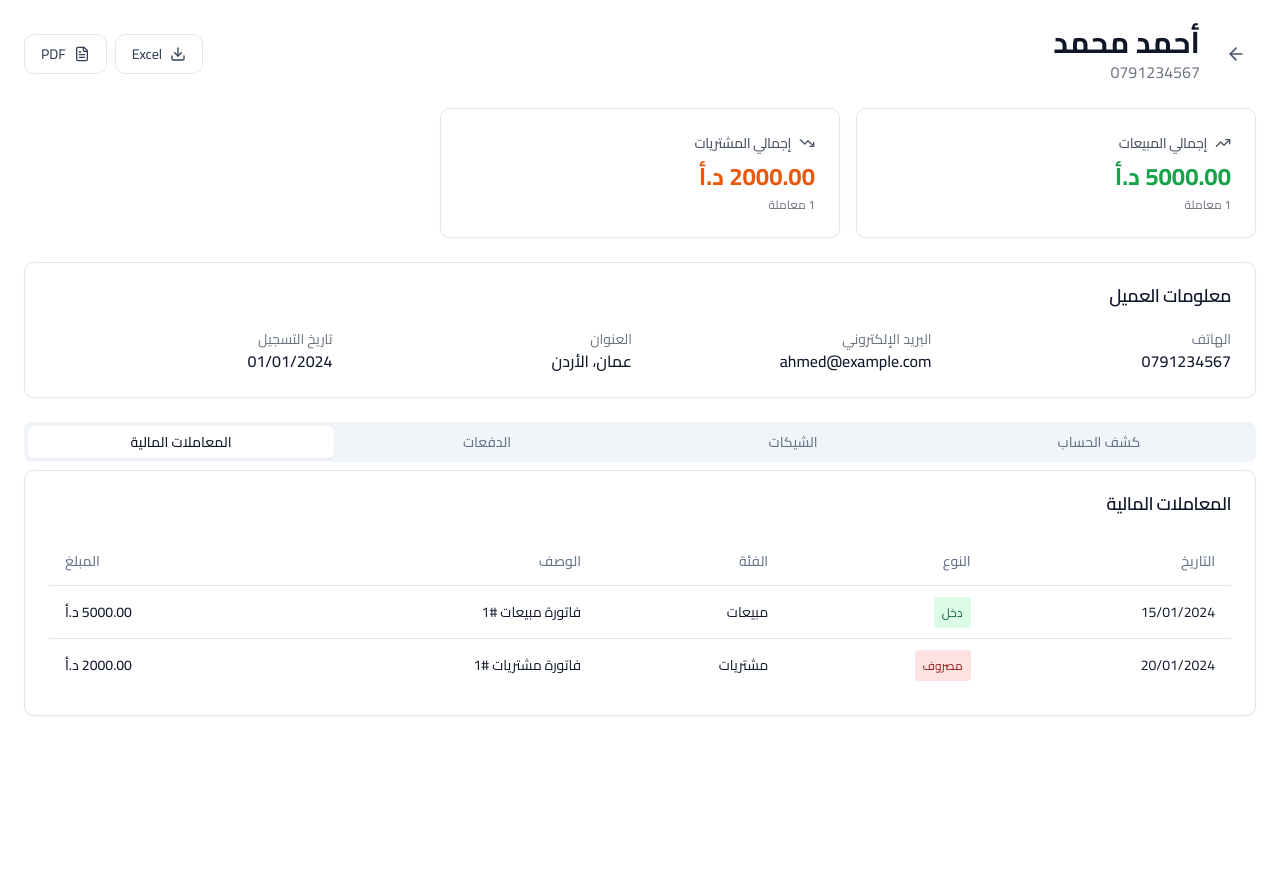
Test: ClientDetailPage › Statement Tab › should display statement header with client name
Click the tab "كشف الحساب".
click(1099, 442)  # box [946, 426, 1252, 458]
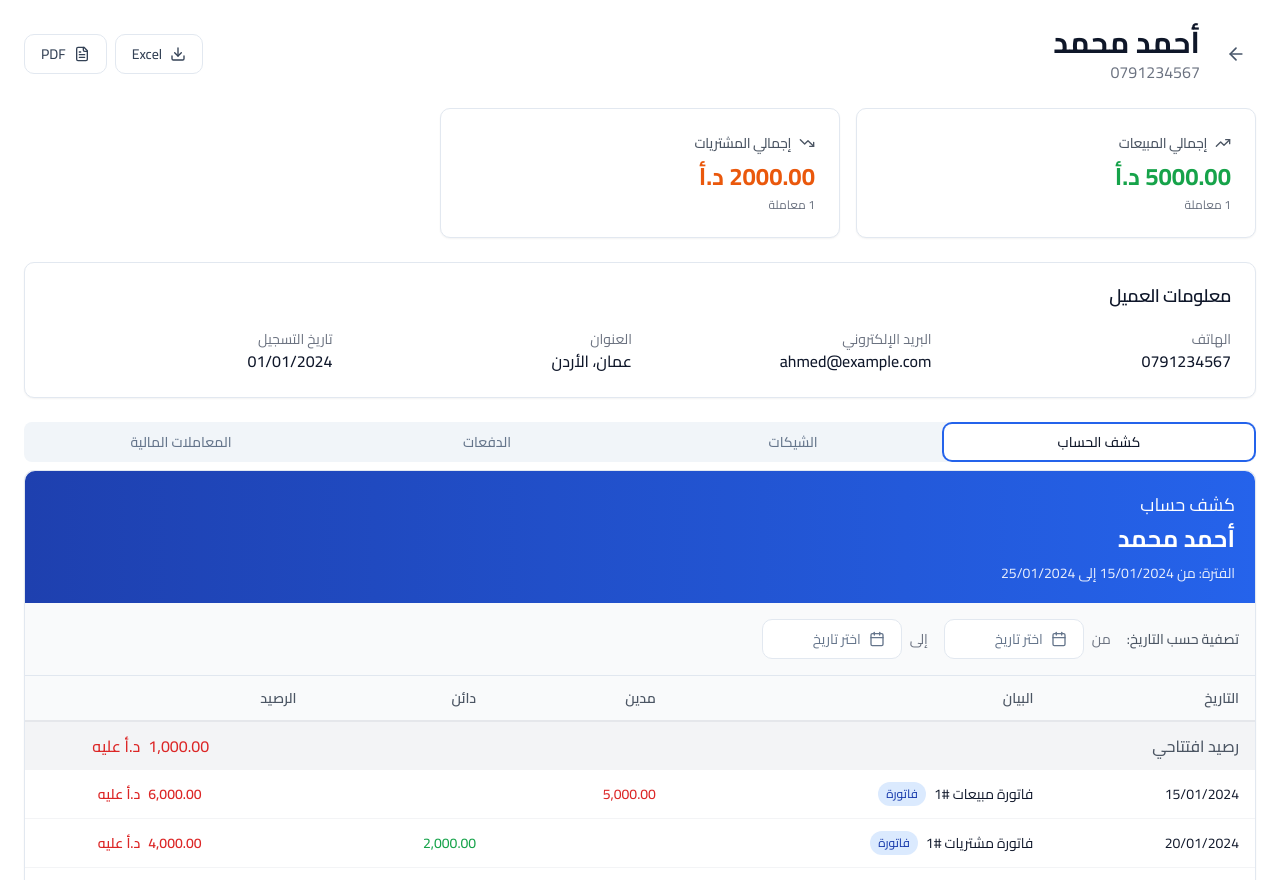
Result: the heading "كشف حساب" is shown at [1140, 488, 1235, 521]
